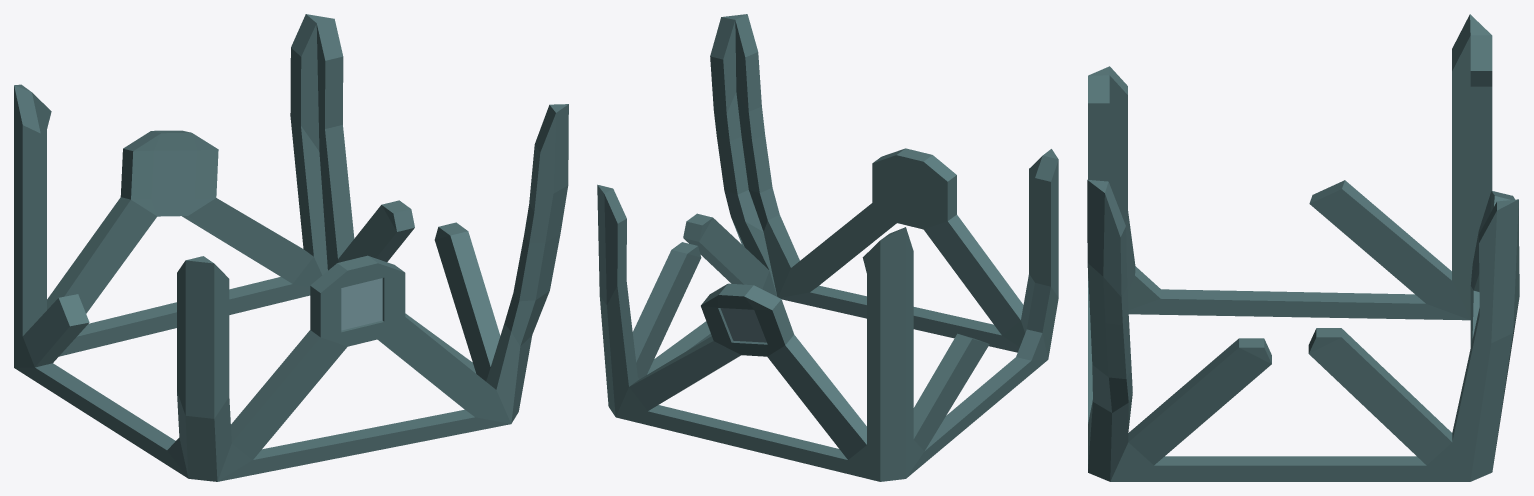
Rendered from SteelLatticeWreck_B.fbx.
3 views of the same model, side by side, from view 1: azimuth 30°, elevation 25°; view 2: azimuth 150°, elevation 25°; view 3: azimuth 270°, elevation 25° (orthographic). The views are drawn at different scales.
Parts seen in each view (by area): view 1: SteelLatticeWreck_B; view 2: SteelLatticeWreck_B; view 3: SteelLatticeWreck_B.
Part boxes in pixels (bbox=[...]): SteelLatticeWreck_B: bbox=[14, 14, 568, 481]; SteelLatticeWreck_B: bbox=[597, 14, 1058, 481]; SteelLatticeWreck_B: bbox=[1087, 14, 1519, 481].
Size of the model in its own units: 2.73 by 2.4 by 1.93.
